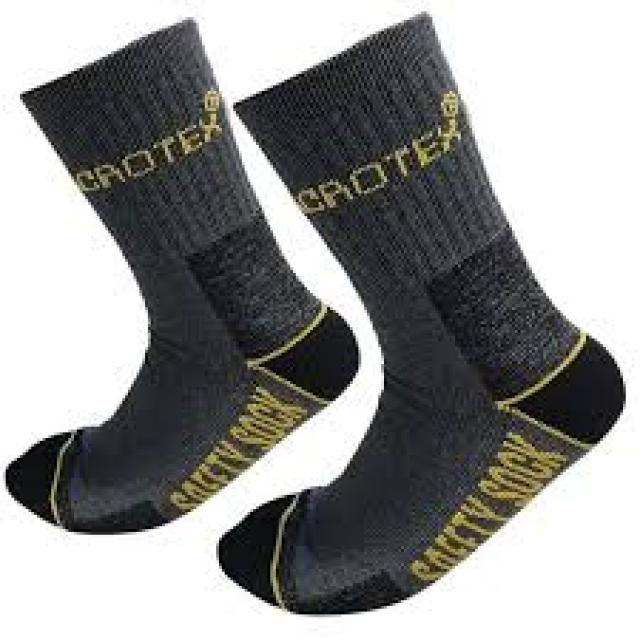sock: (213, 8, 626, 614), (3, 14, 358, 535)
